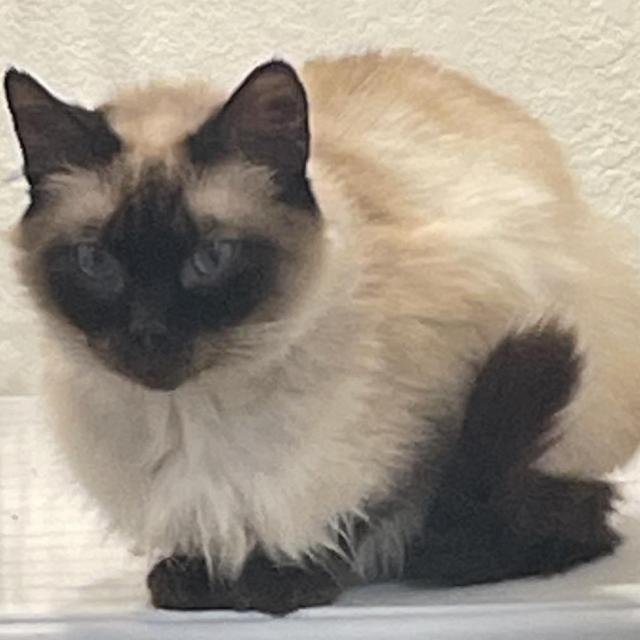siamese_cat: (0, 52, 351, 416)
